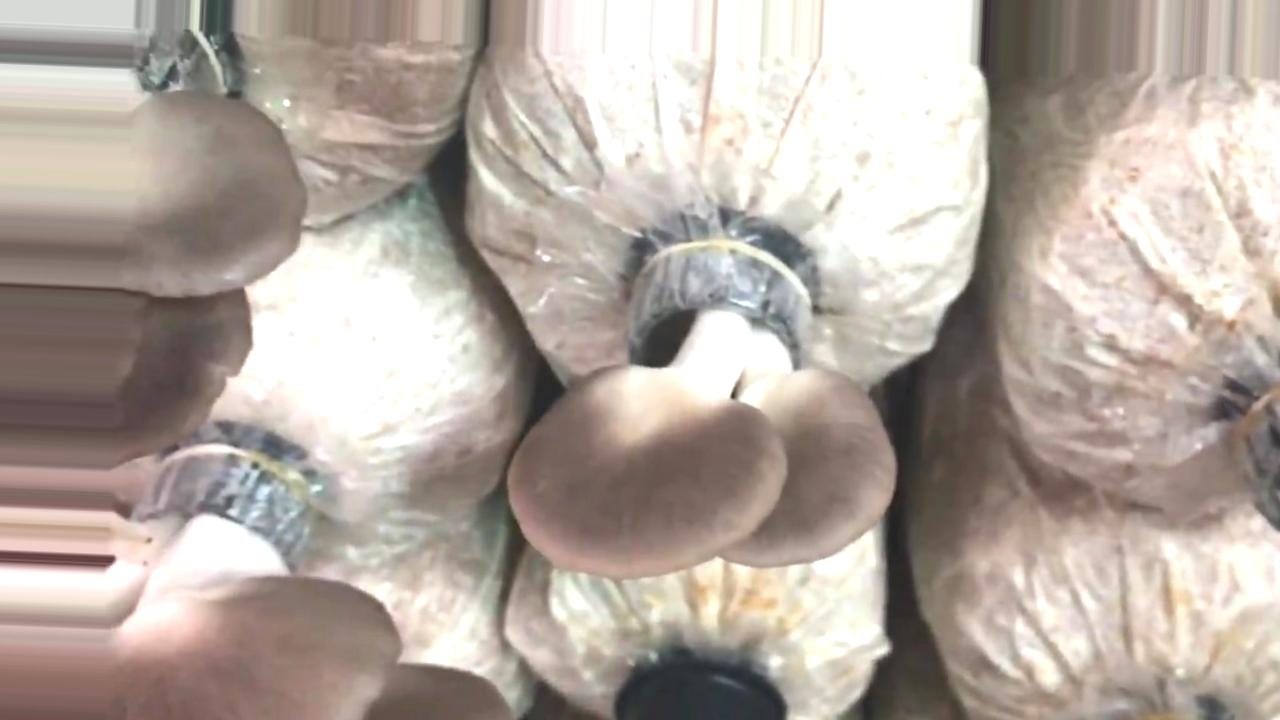nam: (1, 448, 513, 719), (510, 230, 885, 573)
